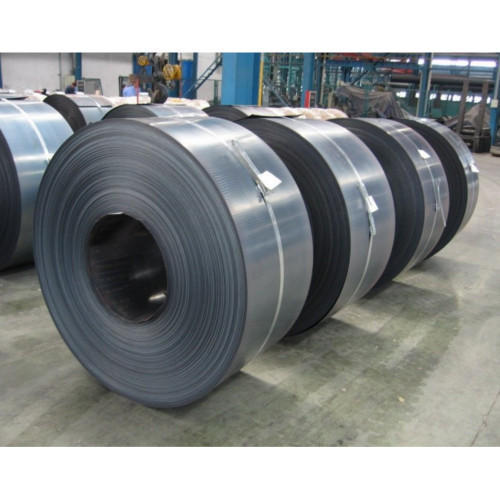steel-coil: (26, 108, 316, 408), (58, 108, 316, 408), (276, 117, 487, 346), (0, 102, 88, 298)
